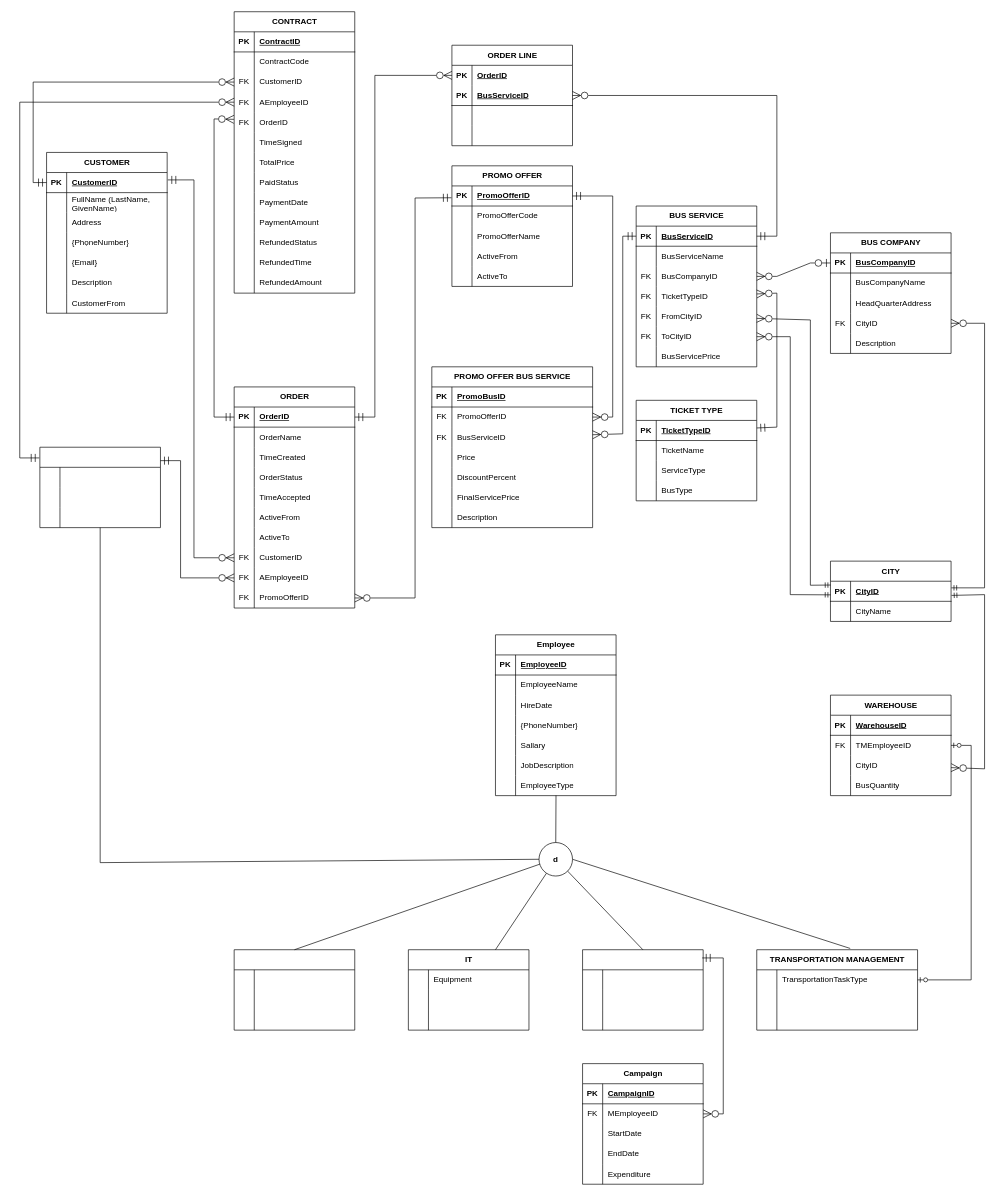
Image size: 1004x1196. Some labels were removed from this diagram. The centre of each missing label's shape, as x and y in pixels:
"AGENT" goes at point 99,487.
"FINANCE" goes at point 294,989.
"MARKETING" goes at point 642,989.
